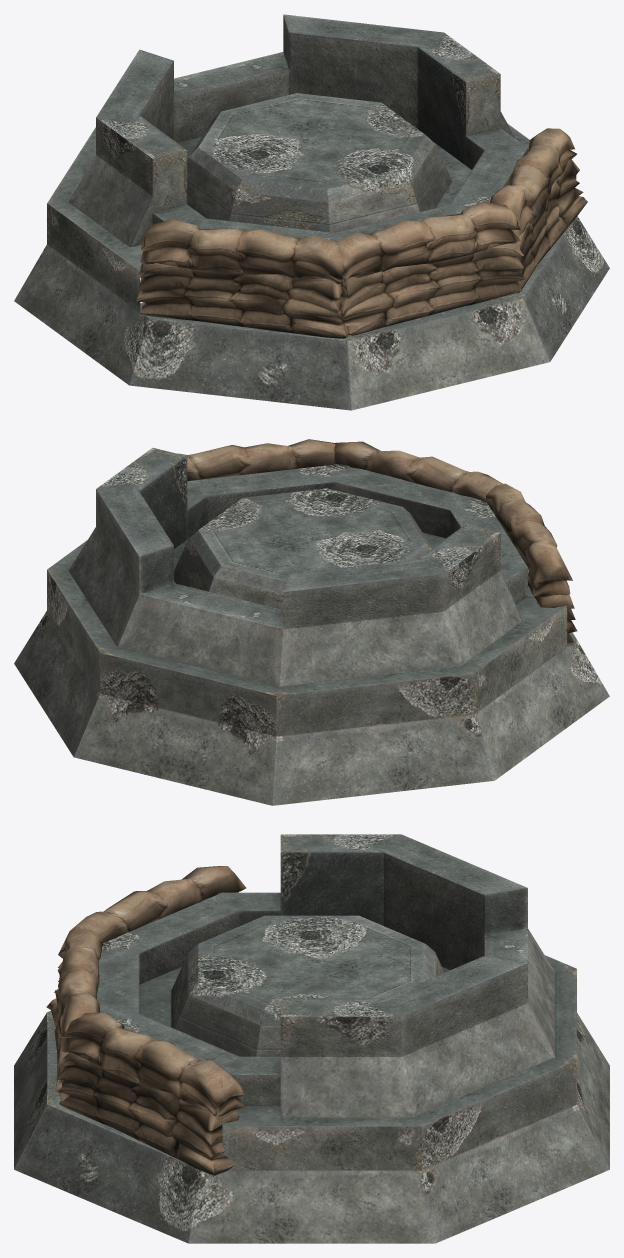
The model's file is Turret_Mesh_BH06.fbx.
3 views of the same model, one above another, from view 1: azimuth 30°, elevation 25°; view 2: azimuth 150°, elevation 25°; view 3: azimuth 270°, elevation 25° (orthographic). The views are drawn at different scales.
Parts seen in each view (by area): view 1: Turret_Mesh_BH06.fbx; view 2: Turret_Mesh_BH06.fbx; view 3: Turret_Mesh_BH06.fbx.
Part boxes in pixels (x1,y1,x2,y2): Turret_Mesh_BH06.fbx: [14, 14, 609, 410]; Turret_Mesh_BH06.fbx: [14, 439, 609, 805]; Turret_Mesh_BH06.fbx: [14, 834, 609, 1243].
Bounding box in the file's own units: 13.66 × 4.86 × 13.68.
